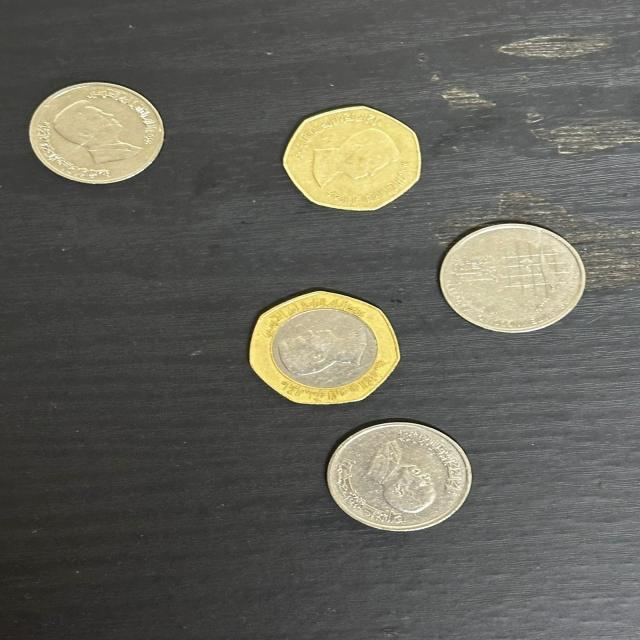10-coins: (322, 416, 474, 532), (437, 222, 592, 332)
25-coins: (283, 102, 421, 212)
5-coins: (27, 80, 168, 182)
50-coins: (245, 286, 406, 406)
